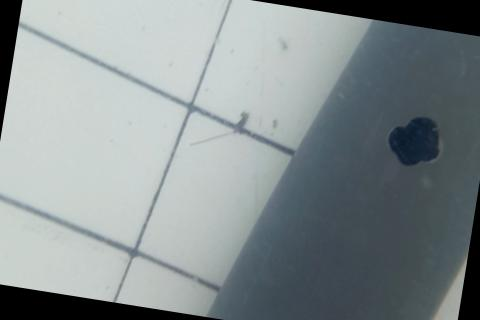kebocoran: (382, 107, 448, 173)
